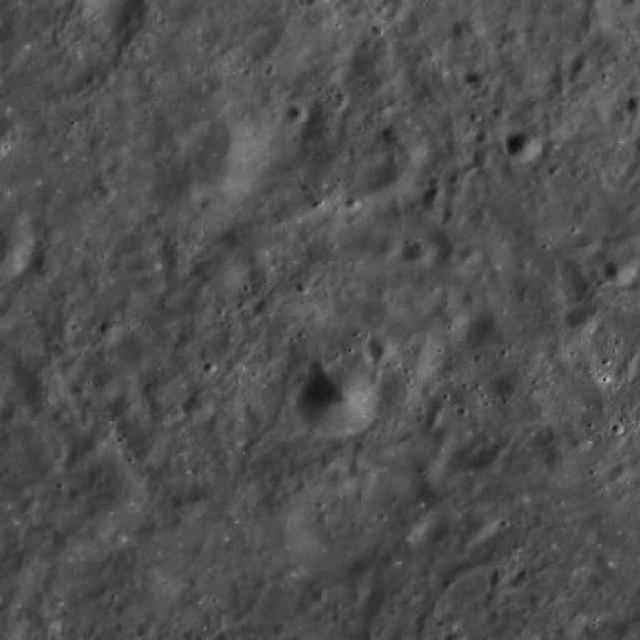crater: (296, 100, 430, 217), (296, 364, 379, 438), (192, 253, 240, 296), (0, 218, 34, 256), (504, 133, 540, 164), (401, 238, 436, 268), (602, 257, 636, 286), (462, 516, 495, 544), (566, 305, 597, 333), (324, 467, 354, 493), (544, 449, 573, 474), (182, 398, 212, 422), (366, 337, 394, 360), (184, 487, 212, 510), (348, 560, 372, 582), (182, 572, 206, 594), (570, 56, 592, 76), (62, 456, 84, 476), (432, 522, 454, 542), (458, 245, 480, 264), (286, 104, 308, 122), (84, 438, 104, 456), (472, 149, 492, 166), (467, 20, 485, 38), (199, 195, 218, 212), (452, 22, 472, 38), (135, 624, 154, 640), (620, 0, 640, 12)
